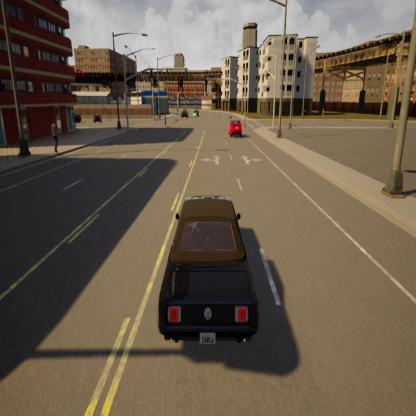Cars: (157, 185, 261, 365), (228, 119, 244, 142), (91, 109, 105, 128), (190, 105, 200, 124), (181, 104, 189, 125), (73, 109, 82, 125)
Pedestrian: (48, 115, 63, 159), (162, 111, 168, 132), (243, 112, 248, 132), (218, 106, 222, 119)
